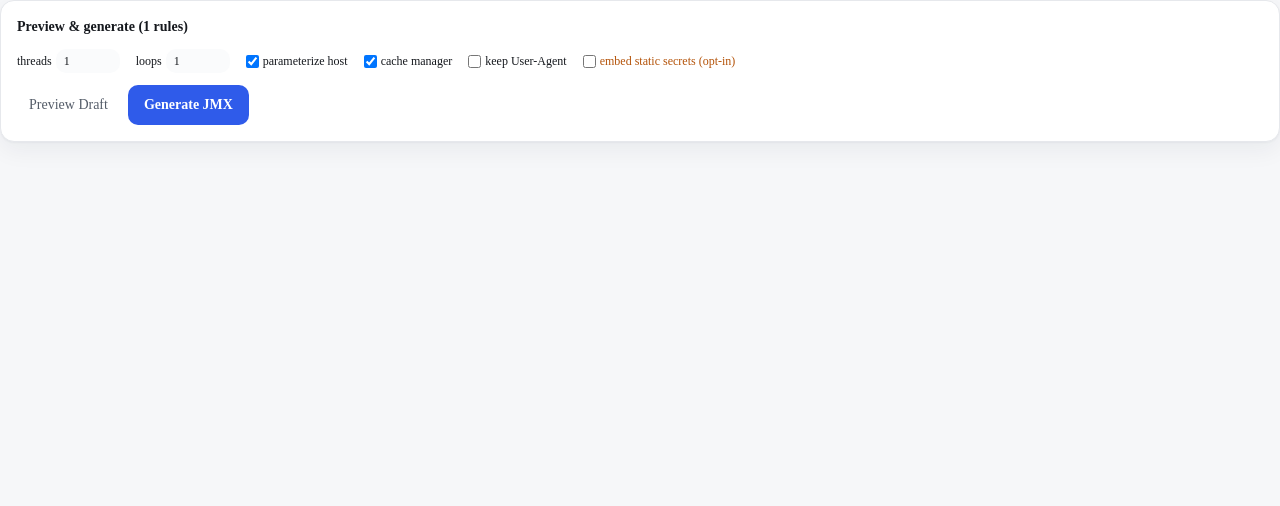
JMeter guidance › clears results when generation options change
The width and height of the screenshot is (1280, 506).
Click the button "Generate JMX": click(188, 105) [128,85,249,125]
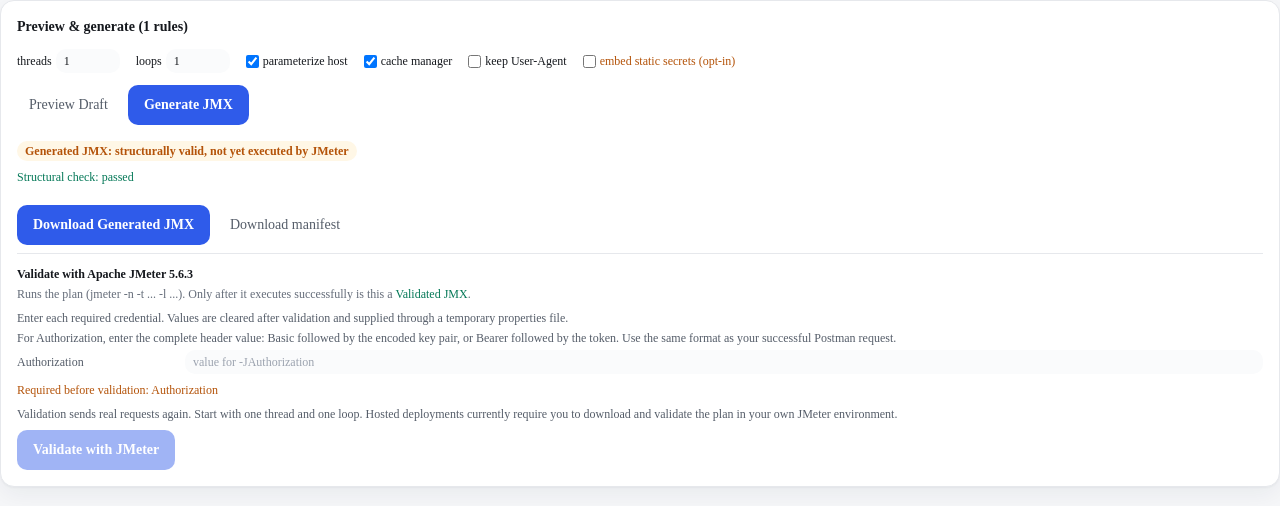
expect the button "Download Generated JMX" is shown: met, box [17,205,210,245]
Replace the text in the number field labelled "threads" with "2": (88, 61) [56,49,120,73]
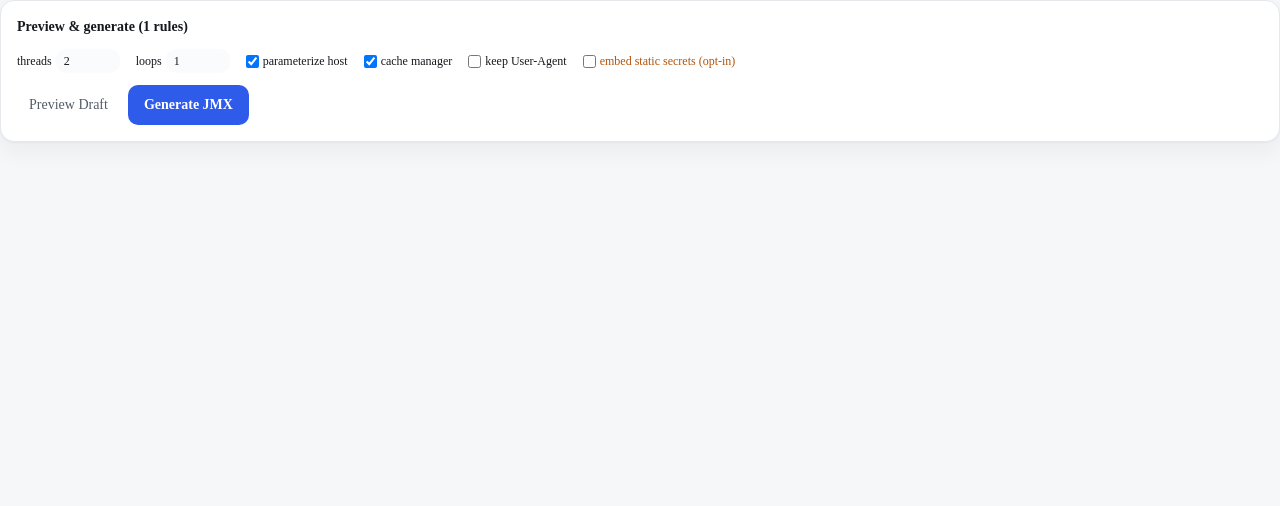
expect the button "Download Generated JMX" is gone: met
